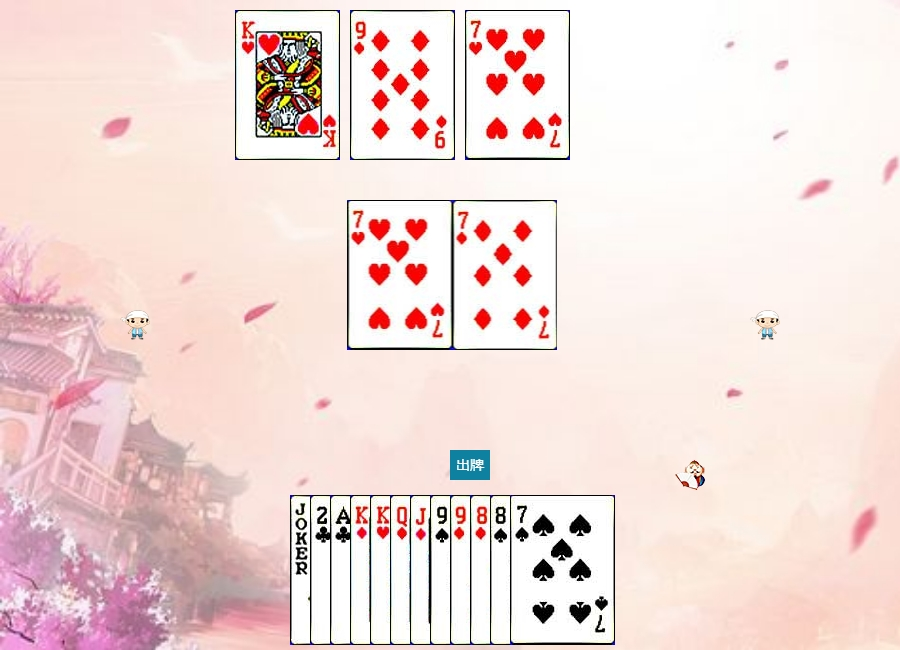11~1: (410, 495, 515, 645)
12~1: (390, 495, 495, 645)
13~1: (350, 495, 455, 645)
13~3: (235, 10, 340, 160), (370, 495, 475, 645)
14~2: (330, 495, 435, 645)
15~2: (310, 495, 415, 645)
17~3: (290, 495, 395, 645)
7~1: (453, 200, 558, 350)
7~3: (465, 10, 570, 160), (348, 200, 453, 350)
7~4: (510, 495, 615, 645)
8~1: (470, 495, 575, 645)
8~4: (490, 495, 595, 645)
9~1: (350, 10, 455, 160), (450, 495, 555, 645)
9~4: (430, 495, 535, 645)
